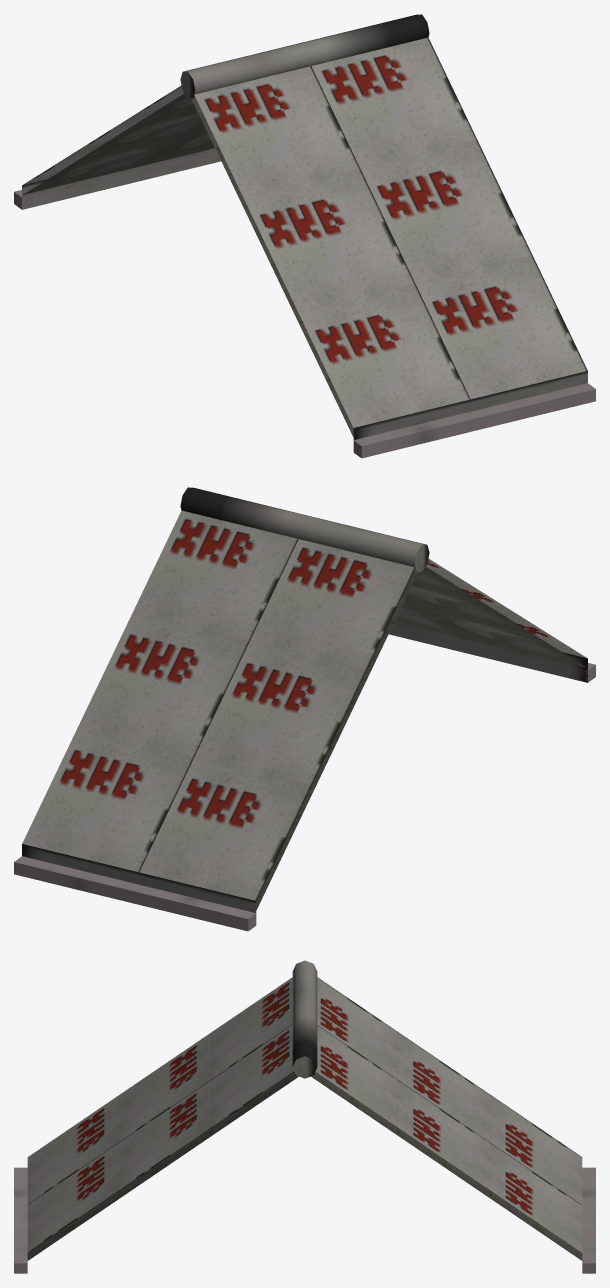
The model's file is roof_clay.fbx.
3 views of the same model, one above another, from view 1: azimuth 30°, elevation 25°; view 2: azimuth 150°, elevation 25°; view 3: azimuth 270°, elevation 25° (orthographic). The views are drawn at different scales.
Parts seen in each view (by area): view 1: roof_clay; view 2: roof_clay; view 3: roof_clay.
Boxes of the visible parts, <box> form: roof_clay: <box>14,14,595,458</box>; roof_clay: <box>14,487,595,931</box>; roof_clay: <box>14,960,595,1273</box>.
Bounding box in the file's own units: 2 × 2.12 × 5.14.
